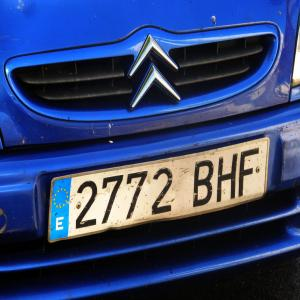Vehicle-registration-plate: (50, 143, 271, 246)
